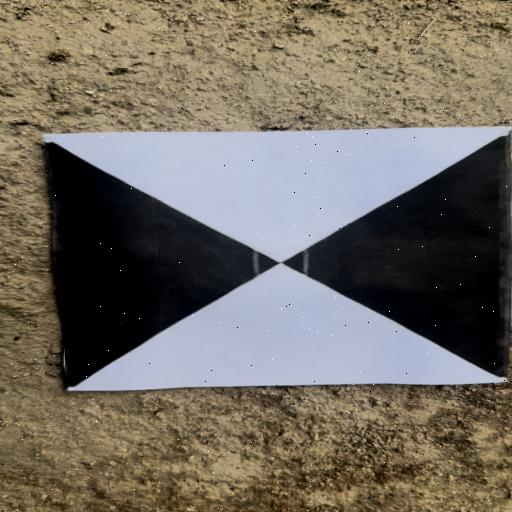target: (45, 127, 510, 393)
